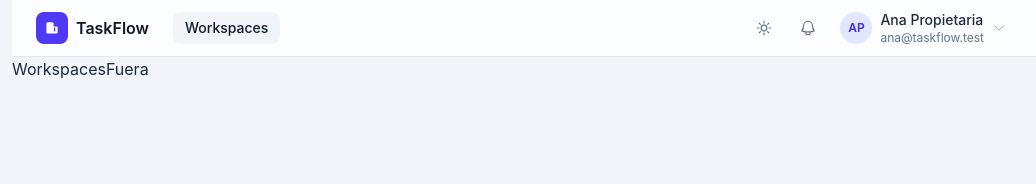
Scenario: Layout › navigates to the notification settings from the user menu
Click the button with aria-label "Menú de Ana Propietaria".
click(923, 28)  # box [834,6,1012,50]
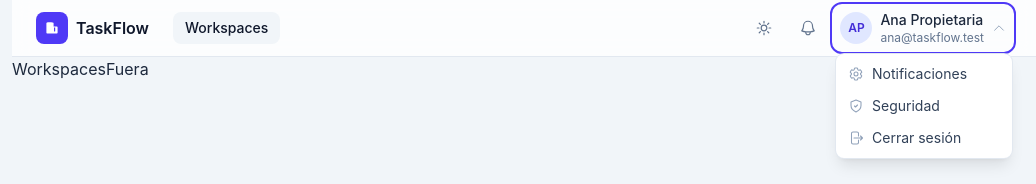
Click the menu item "Notificaciones".
click(908, 74)  # box [848,65,967,82]
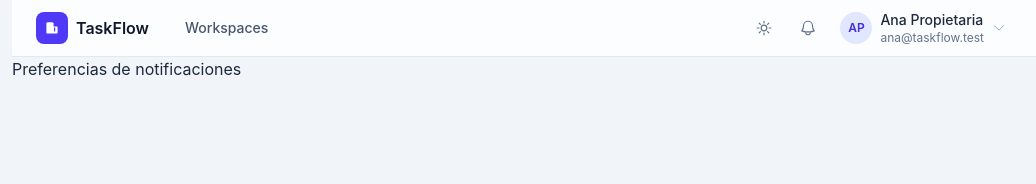
Result: the text "Preferencias de notificaciones" is shown at [12,59,241,79]
